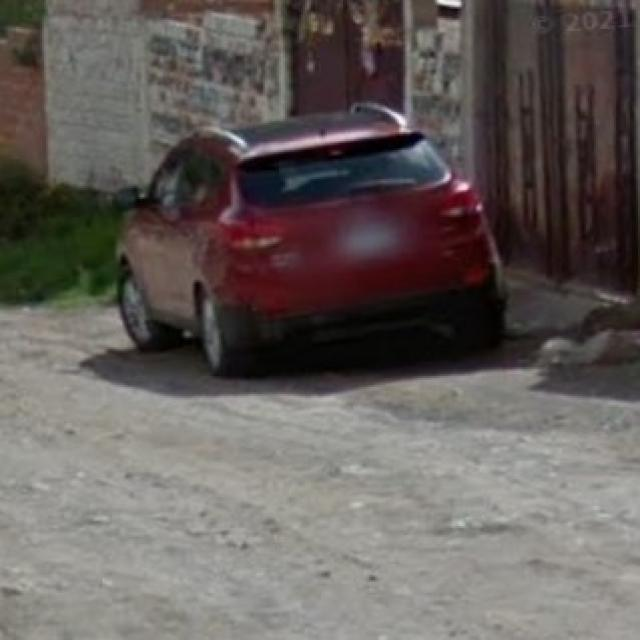cars: (127, 122, 518, 358)
